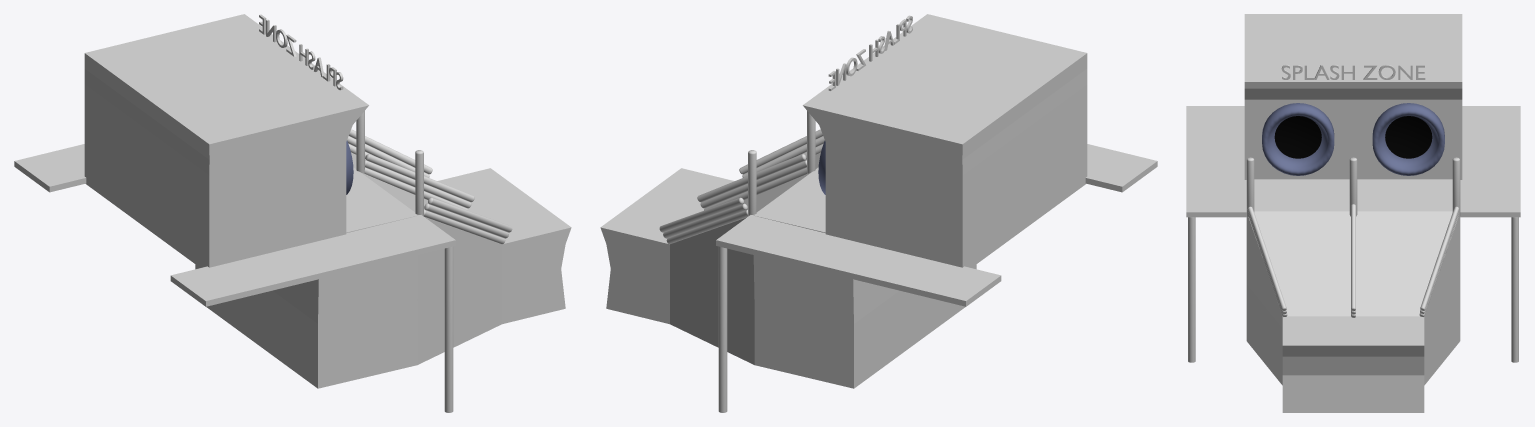
The model's file is ballshooter.fbx.
3 renders of one model, left to right at view 1: azimuth 30°, elevation 25°; view 2: azimuth 150°, elevation 25°; view 3: azimuth 270°, elevation 25°, orthographic. The views are drawn at different scales.
Parts seen in each view (by area): view 1: Cube.001, Cube, Cube.003, Cube.002, Cylinder.003, Cylinder.001, Cylinder.006, Text, Cylinder.002, Cylinder.004, Cylinder.015; view 2: Cube.001, Cube, Cube.002, Cube.003, Cylinder.003, Cylinder.002, Cylinder.007, Text, Cylinder.001, Cylinder.005, Cylinder.015; view 3: Cube, Cube.001, Cube.002, Cube.003, Circle.001, Circle.002, Cylinder.006, Cylinder.007, Text, Cylinder.001, Cylinder.002, Cylinder.003 (+3 smaller).
Part boxes in pixels (bbox=[...]): Cube.001: bbox=[84, 14, 368, 267]; Cube: bbox=[195, 152, 571, 388]; Cube.003: bbox=[170, 215, 455, 306]; Cube.002: bbox=[14, 144, 86, 192]; Cylinder.003: bbox=[364, 154, 474, 210]; Cylinder.001: bbox=[424, 197, 512, 244]; Cylinder.006: bbox=[444, 246, 453, 412]; Text: bbox=[259, 14, 343, 90]; Cylinder.002: bbox=[347, 129, 432, 177]; Cylinder.004: bbox=[415, 150, 423, 216]; Cylinder.015: bbox=[356, 111, 364, 173]; Cube.001: bbox=[803, 14, 1087, 267]; Cube: bbox=[600, 152, 976, 388]; Cube.002: bbox=[716, 215, 1001, 306]; Cube.003: bbox=[1085, 144, 1157, 192]; Cylinder.003: bbox=[697, 154, 807, 210]; Cylinder.002: bbox=[659, 197, 747, 244]; Cylinder.007: bbox=[718, 246, 727, 412]; Text: bbox=[828, 15, 912, 90]; Cylinder.001: bbox=[739, 129, 824, 177]; Cylinder.005: bbox=[748, 150, 756, 216]; Cylinder.015: bbox=[807, 111, 815, 173]; Cube: bbox=[1246, 179, 1460, 412]; Cube.001: bbox=[1244, 14, 1462, 179]; Cube.002: bbox=[1460, 106, 1520, 217]; Cube.003: bbox=[1186, 106, 1246, 217]; Circle.001: bbox=[1262, 103, 1334, 175]; Circle.002: bbox=[1372, 103, 1444, 175]; Cylinder.006: bbox=[1188, 217, 1195, 362]; Cylinder.007: bbox=[1511, 217, 1518, 362]; Text: bbox=[1281, 64, 1425, 79]; Cylinder.001: bbox=[1247, 206, 1287, 316]; Cylinder.002: bbox=[1419, 206, 1459, 316]; Cylinder.003: bbox=[1351, 204, 1355, 317].
Bounding box in the file's own units: 5020 × 3559 × 3955.
